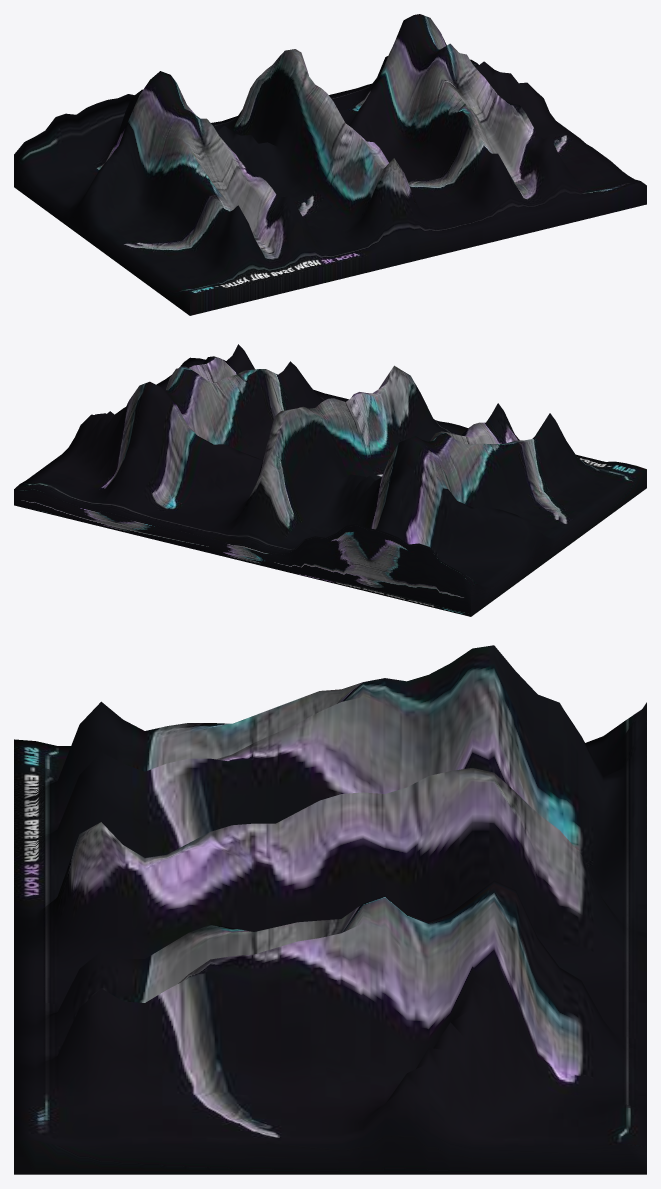
Rendered from BASE_01_Slim_Mesh.glb.
3 views of the same model, one above another, from view 1: azimuth 30°, elevation 25°; view 2: azimuth 150°, elevation 25°; view 3: azimuth 270°, elevation 25° (orthographic). The views are drawn at different scales.
Parts seen in each view (by area): view 1: BASE_01_Slim_Mesh; view 2: BASE_01_Slim_Mesh; view 3: BASE_01_Slim_Mesh.
Boxes of the visible parts, x1,y1,x2,y2 form: BASE_01_Slim_Mesh: (14, 14, 646, 315); BASE_01_Slim_Mesh: (14, 344, 646, 616); BASE_01_Slim_Mesh: (14, 645, 646, 1174).
Size of the model in its own units: 2 by 0.51 by 1.33.
1 material, 1 textured.
